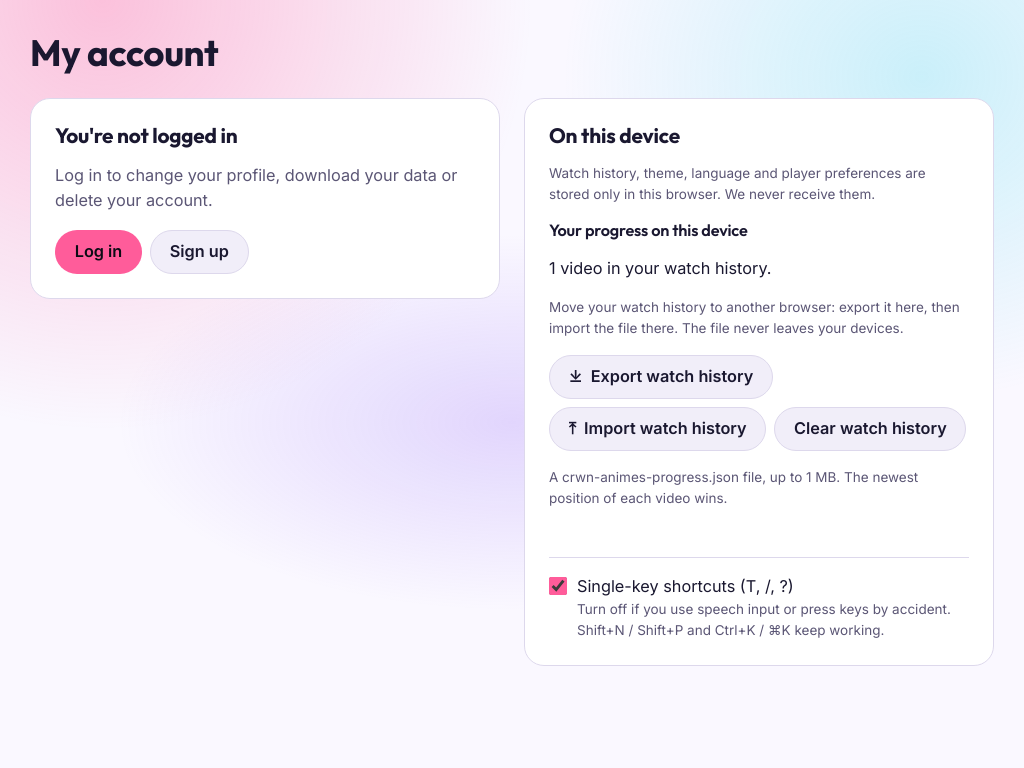
Test: Account — “Clear watch history” (v1.5) › also deletes the offline copy of catalog pages and images, keeping the app shell
The width and height of the screenshot is (1024, 768).
Later steps or results of the test are not shown.
Step 1. Click the button "Clear watch history" → (870, 429), box [774,407,966,451]
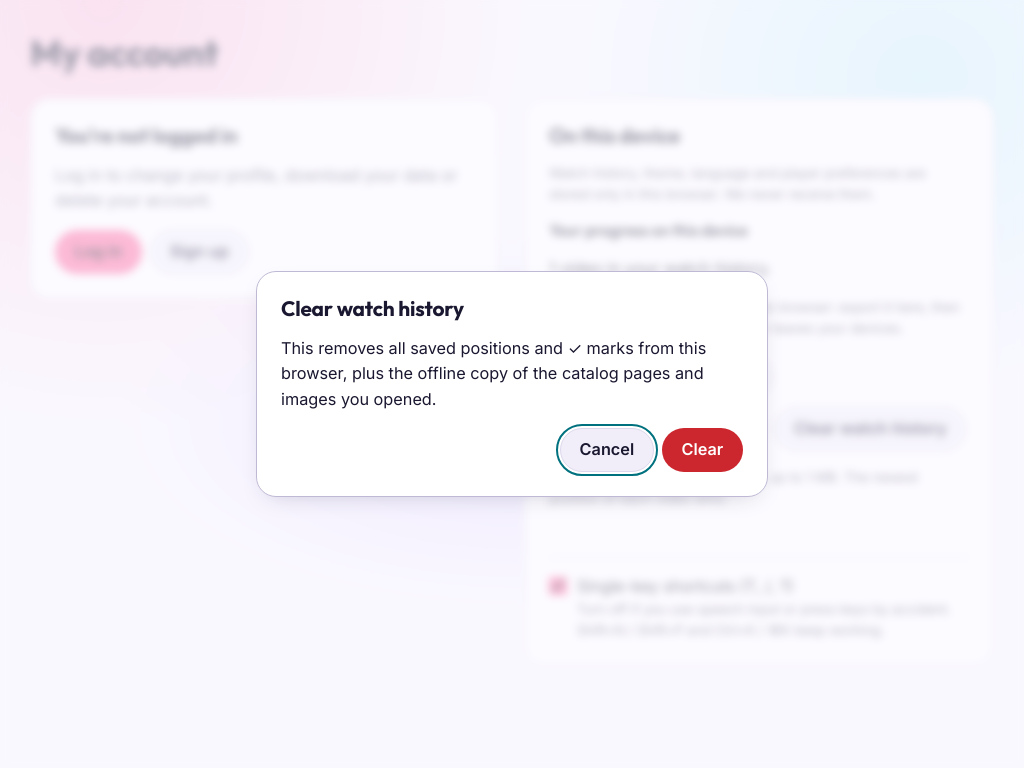
Expected: the dialog "Clear watch history" shows "plus the offline copy of the catalog pages and images you opened", [281,338,706,409]
